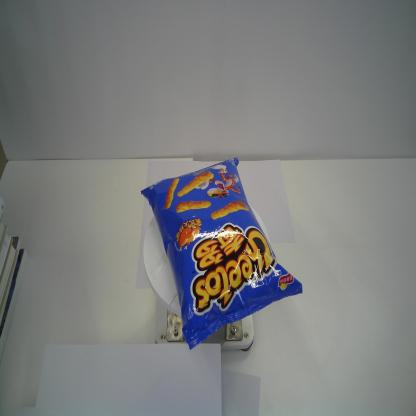Puffed Food: (140, 156, 303, 352)
